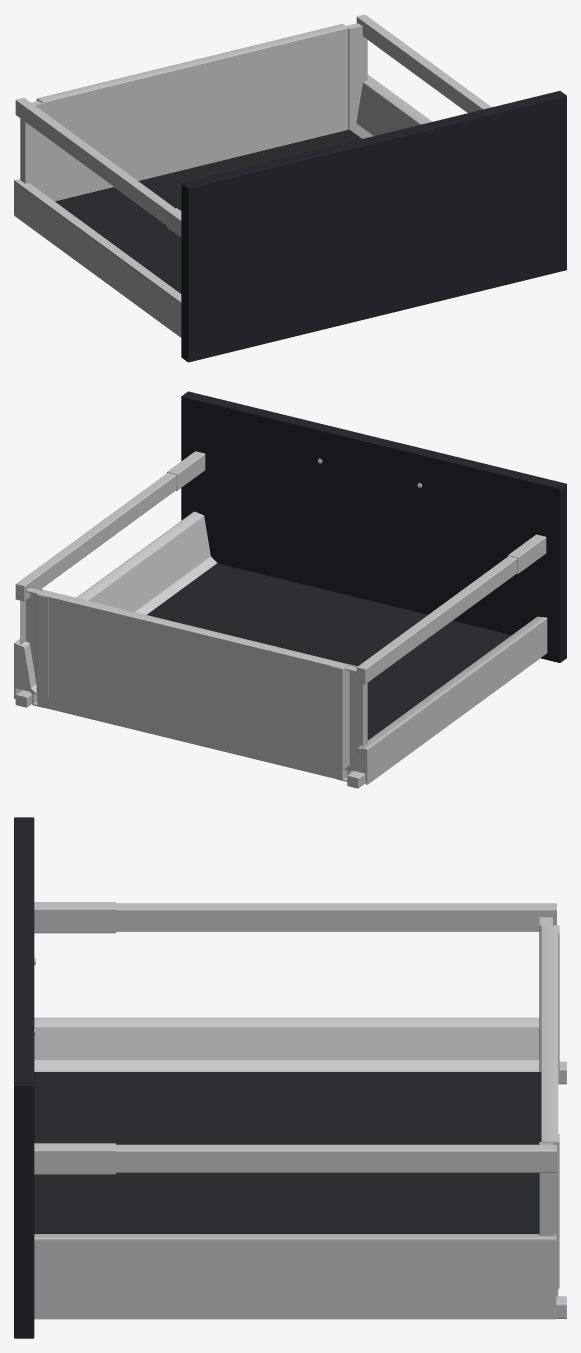
Rendered from SM_Kitchen_01_Drawer_01.dae.
3 renders of one model, top to bottom at view 1: azimuth 30°, elevation 25°; view 2: azimuth 150°, elevation 25°; view 3: azimuth 270°, elevation 25°, orthographic. The views are drawn at different scales.
Visible parts, largest first — view 1: SM_Kitchen_01_Drawer_01; view 2: SM_Kitchen_01_Drawer_01; view 3: SM_Kitchen_01_Drawer_01.
Part boxes in pixels (x1,y1,x2,y2): SM_Kitchen_01_Drawer_01: (14, 14, 566, 362); SM_Kitchen_01_Drawer_01: (14, 391, 566, 788); SM_Kitchen_01_Drawer_01: (14, 817, 566, 1338).
Size of the model in its own units: 0.5969 by 0.5199 by 0.263.
